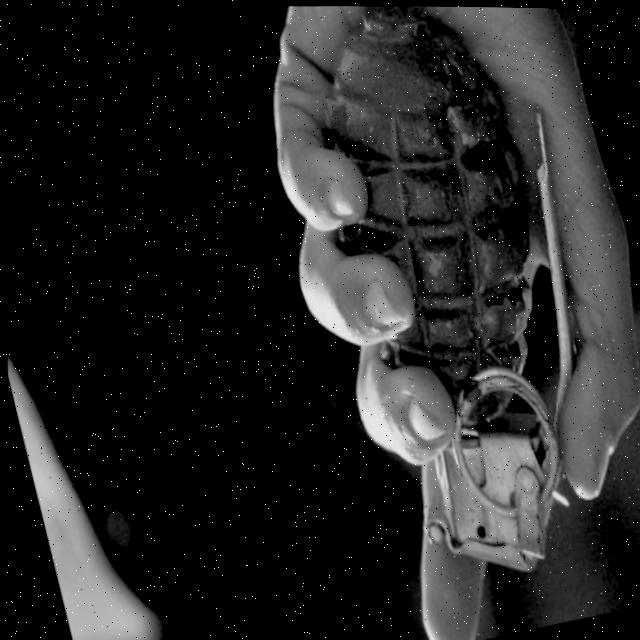grenade: (279, 3, 640, 599)
